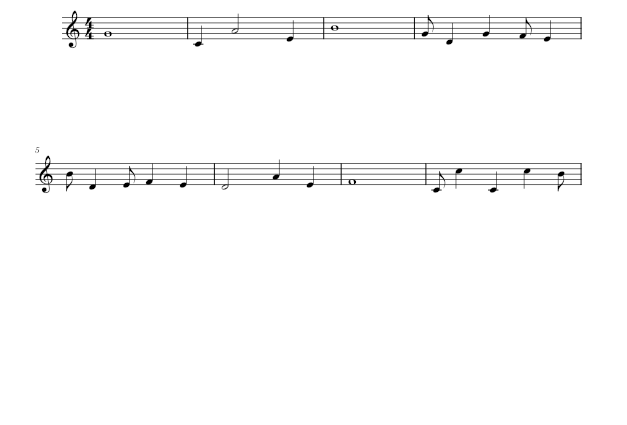Treble Clef: (36, 153, 56, 196), (63, 8, 81, 50)
